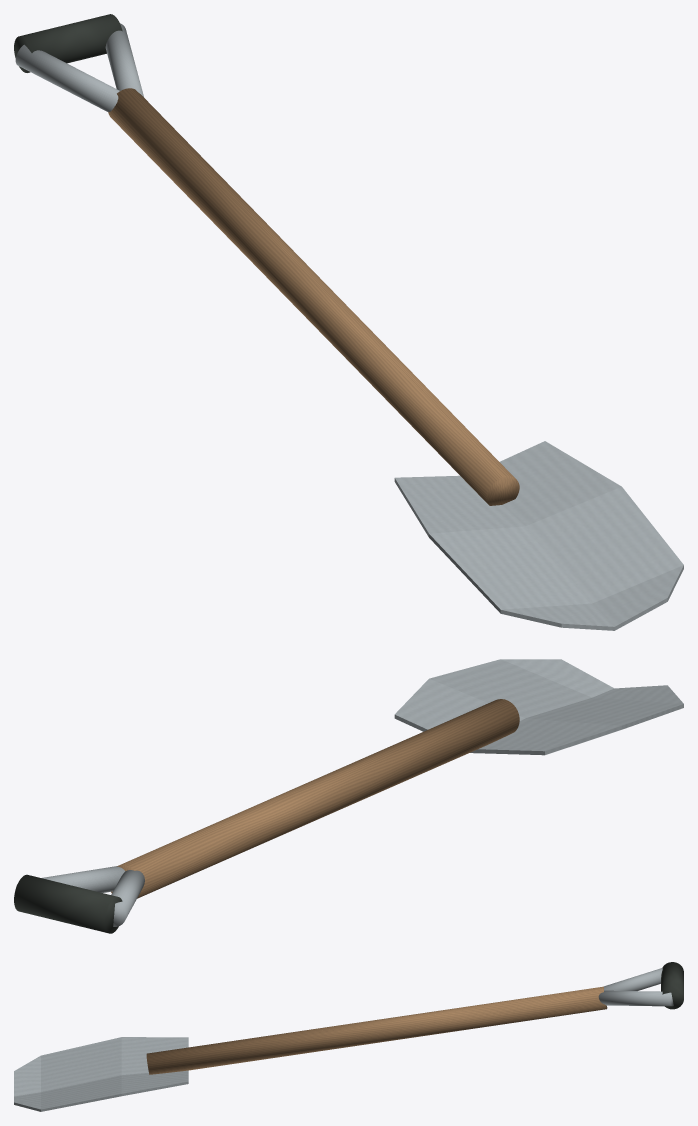
File: shovel.glb
3 views of the same model, one above another, from view 1: azimuth 30°, elevation 25°; view 2: azimuth 150°, elevation 25°; view 3: azimuth 270°, elevation 25° (orthographic). The views are drawn at different scales.
Parts seen in each view (by area): view 1: curved steel shovel blade, shaft, rubber grip, D grip left, D grip right; view 2: shaft, curved steel shovel blade, rubber grip, D grip right, D grip left; view 3: shaft, curved steel shovel blade, D grip right, rubber grip, D grip left.
Boxes of the visible parts, bbox=[...] form: curved steel shovel blade: bbox=[394, 441, 683, 630]; shaft: bbox=[108, 88, 519, 505]; rubber grip: bbox=[14, 14, 122, 72]; D grip left: bbox=[15, 44, 119, 111]; D grip right: bbox=[105, 23, 143, 96]; shaft: bbox=[111, 699, 519, 898]; curved steel shovel blade: bbox=[394, 659, 683, 755]; rubber grip: bbox=[14, 874, 122, 933]; D grip right: bbox=[17, 866, 125, 892]; D grip left: bbox=[111, 870, 144, 926]; shaft: bbox=[146, 986, 607, 1074]; curved steel shovel blade: bbox=[14, 1037, 188, 1111]; D grip right: bbox=[598, 990, 673, 1006]; rubber grip: bbox=[661, 962, 683, 1009]; D grip left: bbox=[604, 968, 662, 991].
Bounding box in the file's own units: 0.2 × 0.203 × 0.997.
3 materials, 3 textured.
